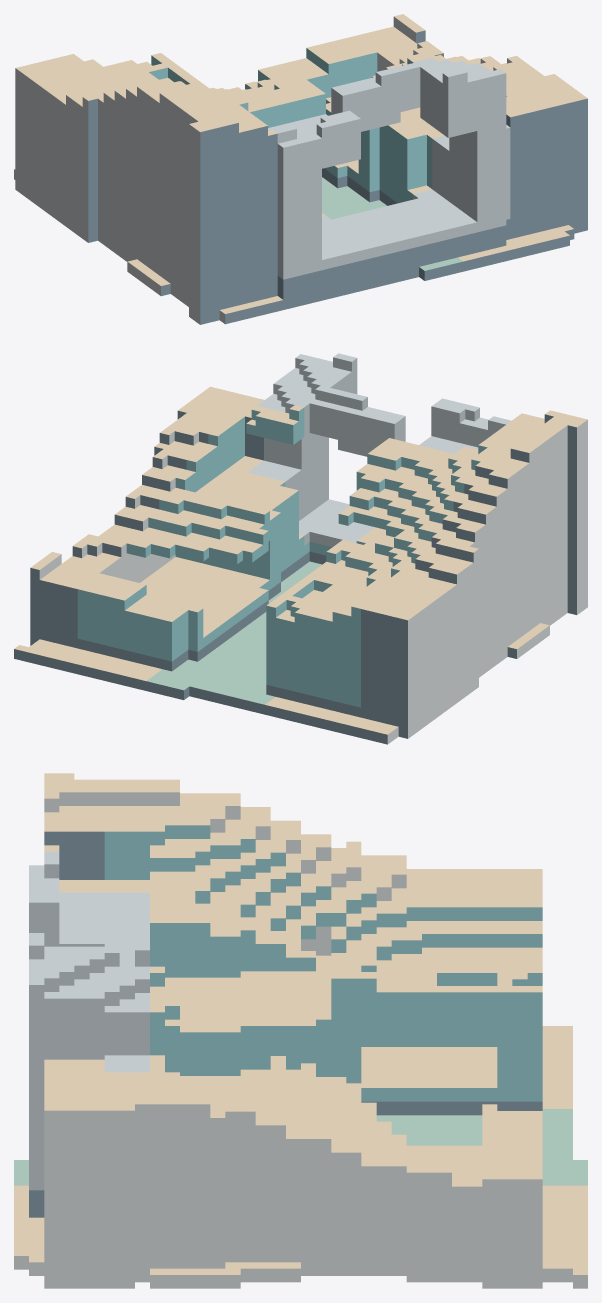
The model's file is a34_city.glb.
The picture shows the model from 3 angles, top to bottom: view 1: azimuth 30°, elevation 25°; view 2: azimuth 150°, elevation 25°; view 3: azimuth 270°, elevation 25°; orthographic projection. The views are drawn at different scales.
Size of the model in its own units: 400 by 190 by 380.
